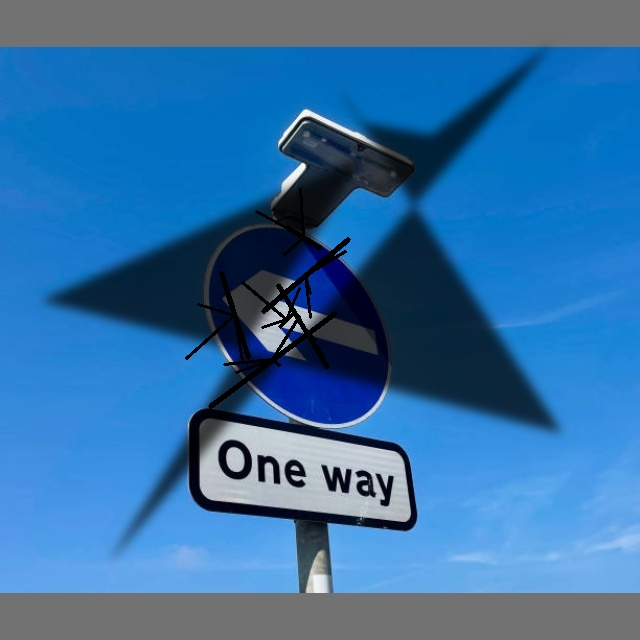Compulsory_Turn_Left: (207, 222, 399, 428)
